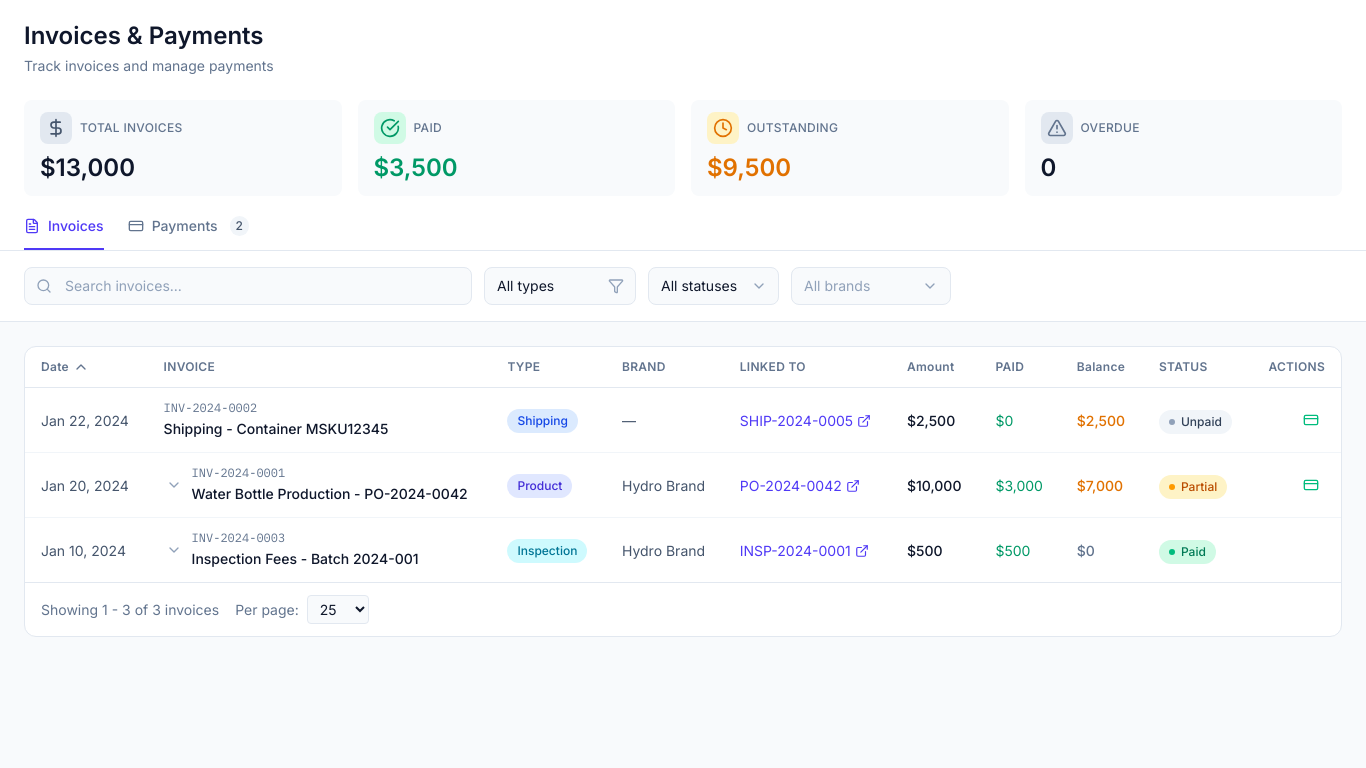
it: InvoicesPaymentsView › Filtering › filters invoices by type
The image size is (1366, 768).
Note: Find and change the type filter
Select "Shipping" in the 1st dropdown at {"x": 560, "y": 286}, box [484,267,636,305]
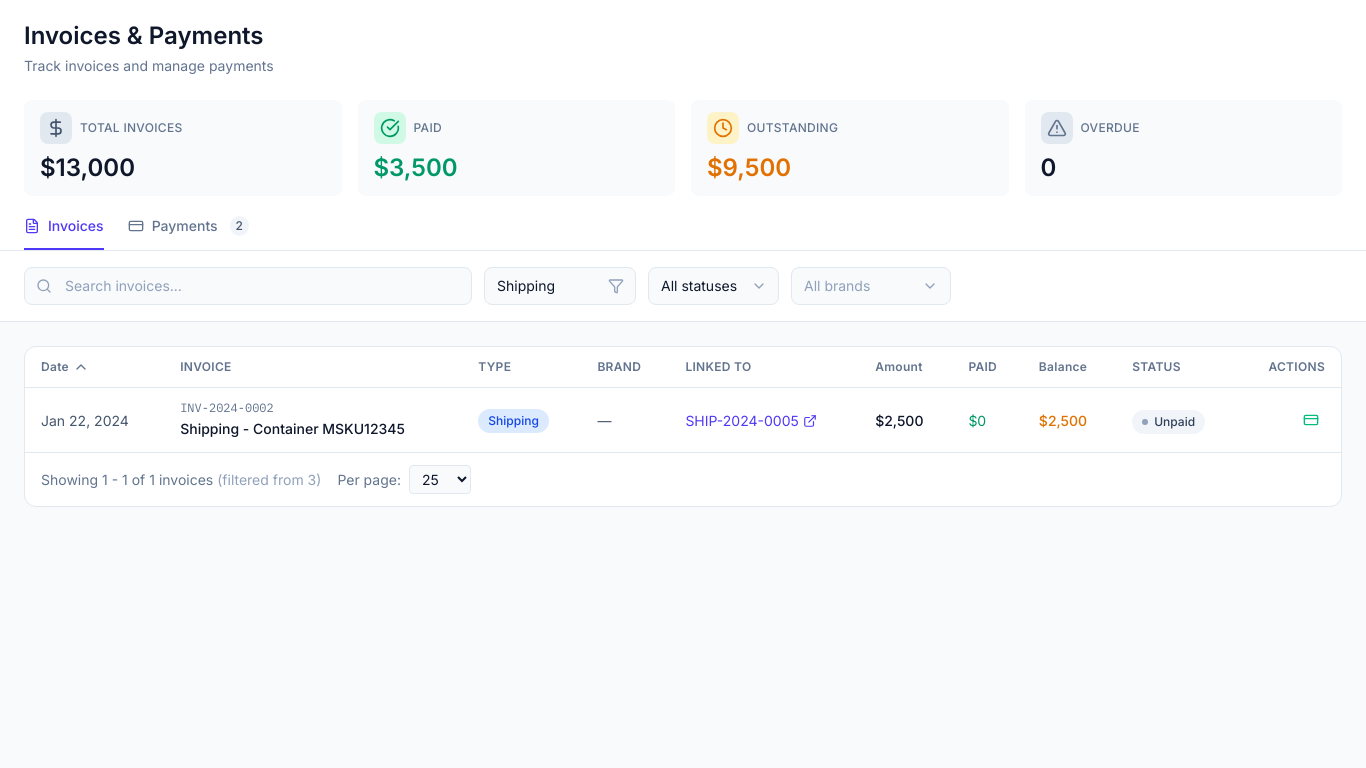
Check: the text "Shipping - Container MSKU12345" is shown, box [180,420,405,437]
Check: the text "Water Bottle Production - PO-2024-0042" is gone
